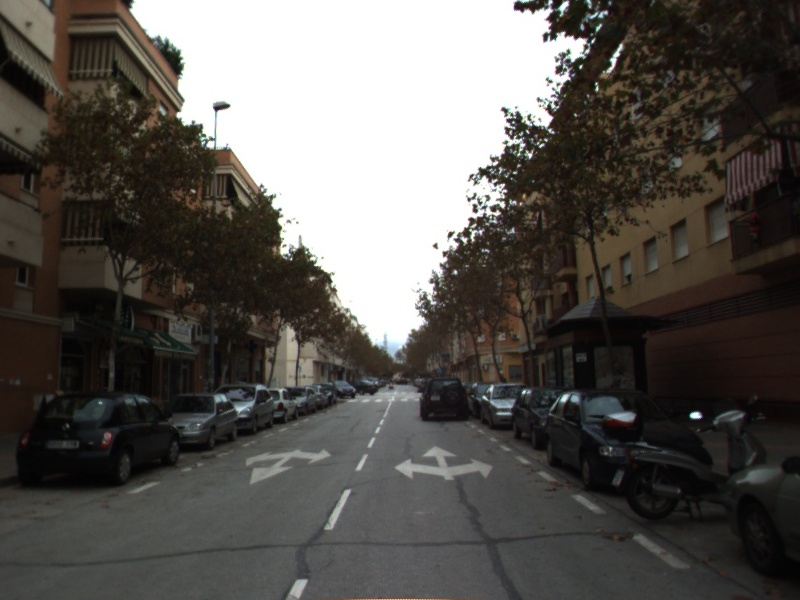STRAIGHT_LEFT_RIGHT: (392, 444, 495, 482)
